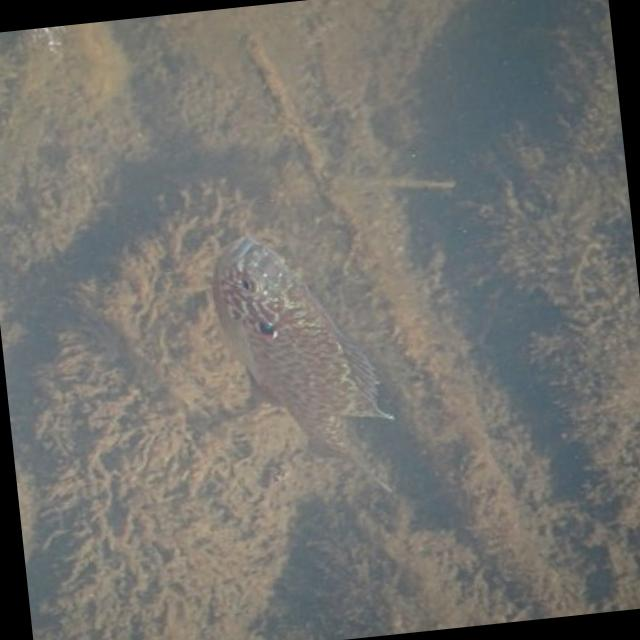Gunes Levregi: (186, 218, 407, 509)
